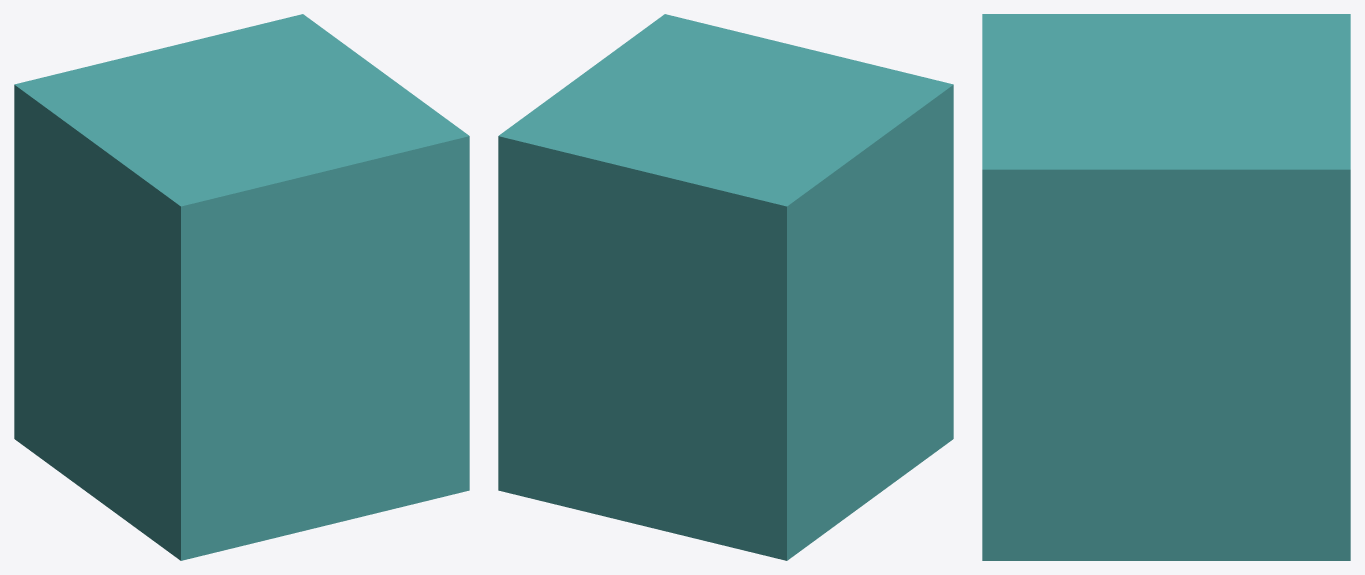
File: surfista_manga_sup.glb
3 renders of one model, left to right at view 1: azimuth 30°, elevation 25°; view 2: azimuth 150°, elevation 25°; view 3: azimuth 270°, elevation 25°, orthographic. The views are drawn at different scales.
Visible parts, largest first — view 1: surfista_manga_sup; view 2: surfista_manga_sup; view 3: surfista_manga_sup.
Part boxes in pixels (left/top/right/bottom): surfista_manga_sup: left=14, top=14, right=469, bottom=560; surfista_manga_sup: left=498, top=14, right=953, bottom=560; surfista_manga_sup: left=982, top=14, right=1350, bottom=560.
Size of the model in its own units: 0.29 by 0.34 by 0.29.
